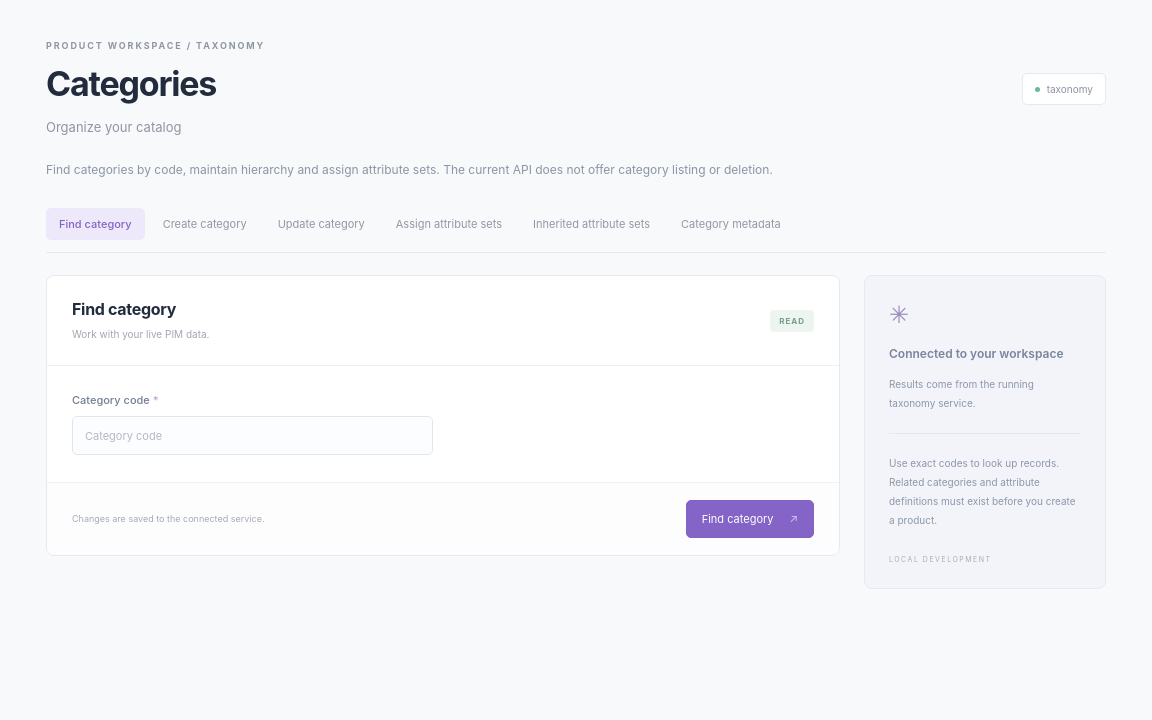
Test: Live workspace forms › creates a category and displays the returned record
The width and height of the screenshot is (1152, 720).
Click the tab "Create category" at (205, 224), box [150,208,260,240]
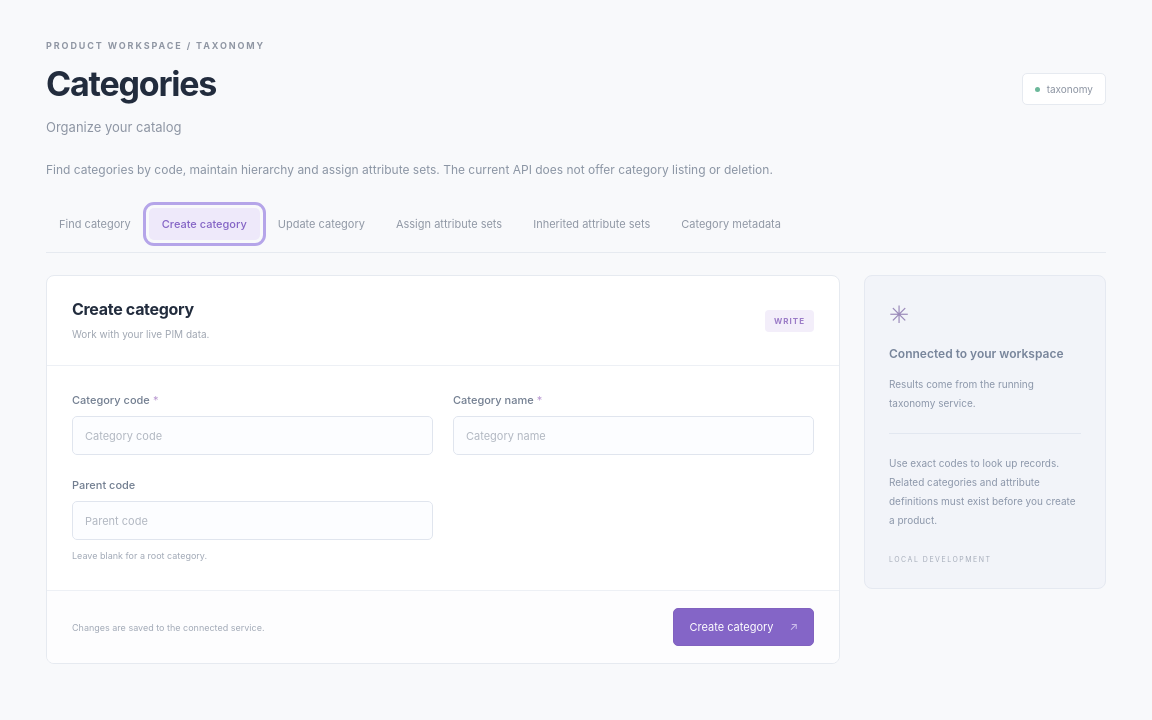
Type "shoes" into the field labelled "Category code *" at (252, 436), box [72,416,433,455]
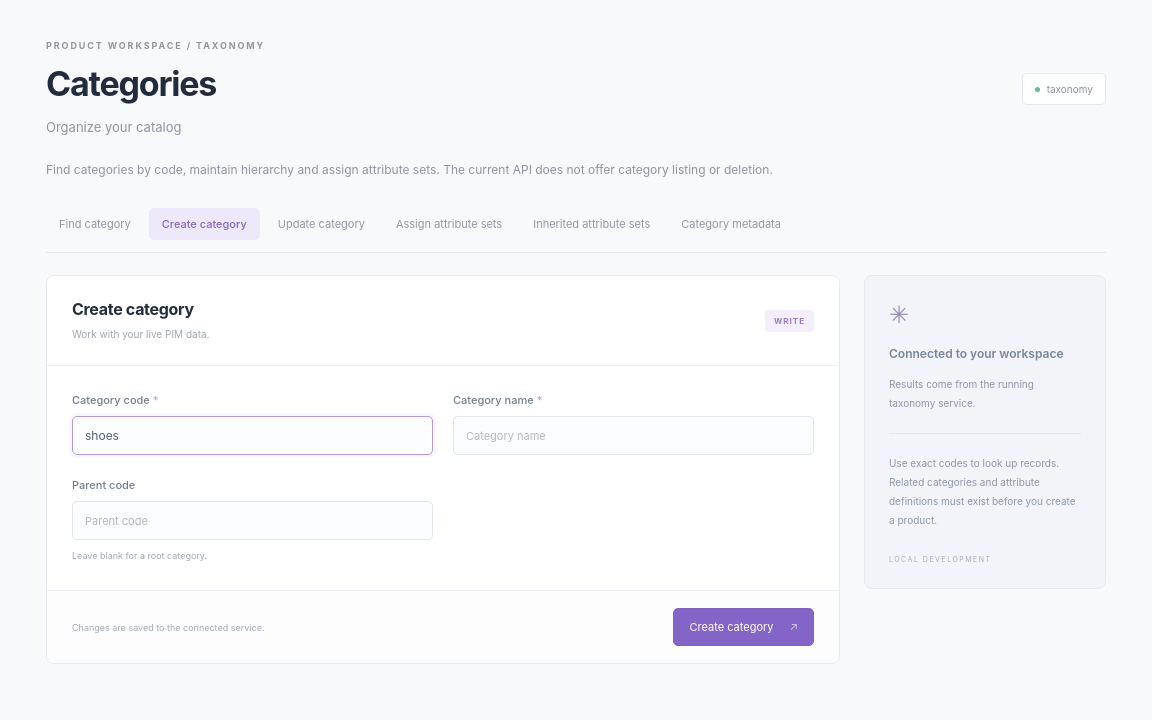
Type "Shoes" into the field labelled "Category name *" at (634, 436), box [453,416,814,455]
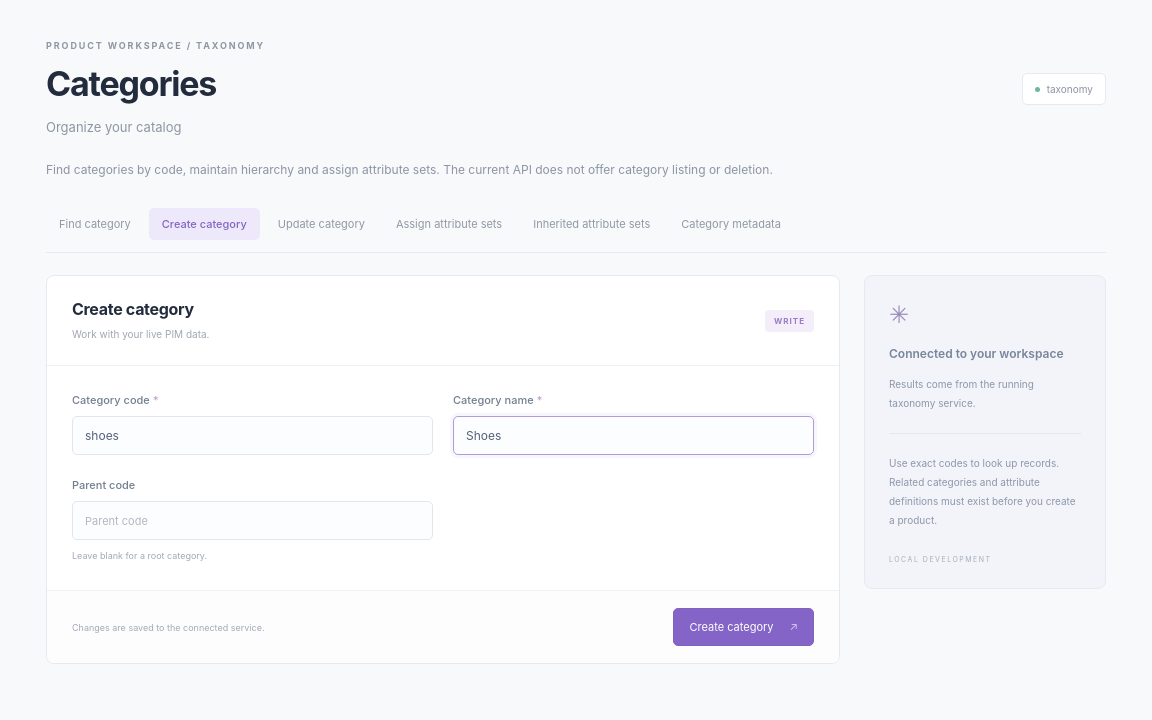
Click the button "Create category ↗" at (744, 627), box [674,608,814,646]
(page scrolled)
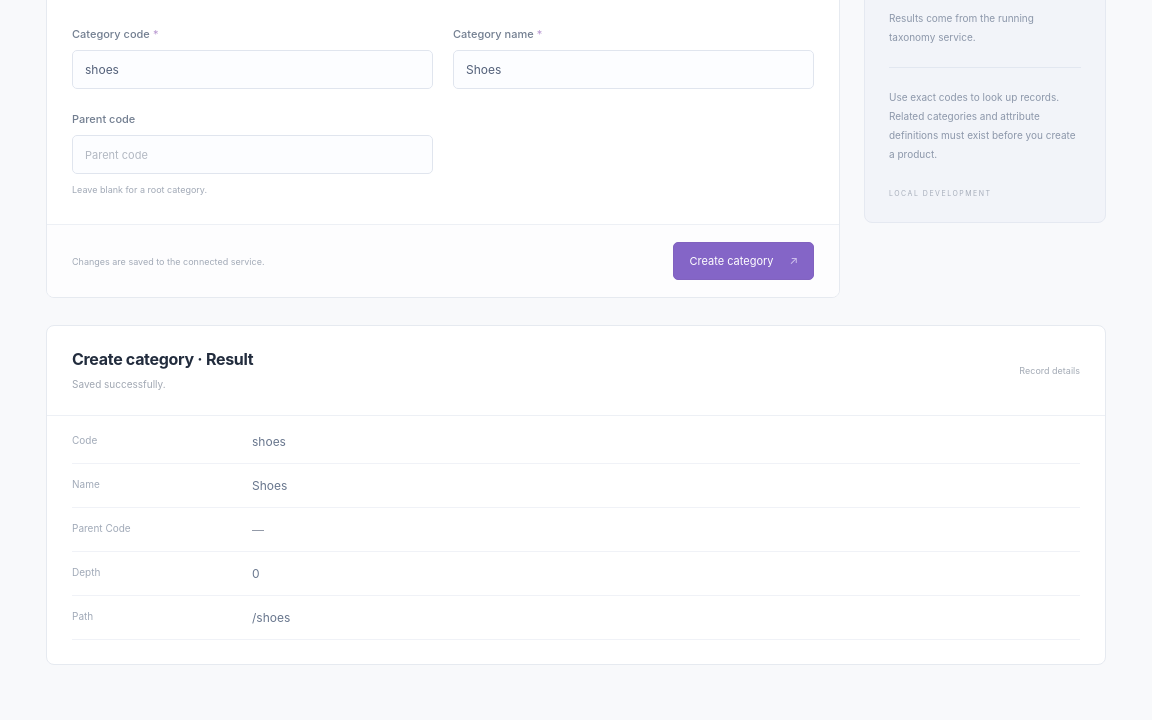
Expected: the text "Shoes" is shown, [252,478,287,493]
